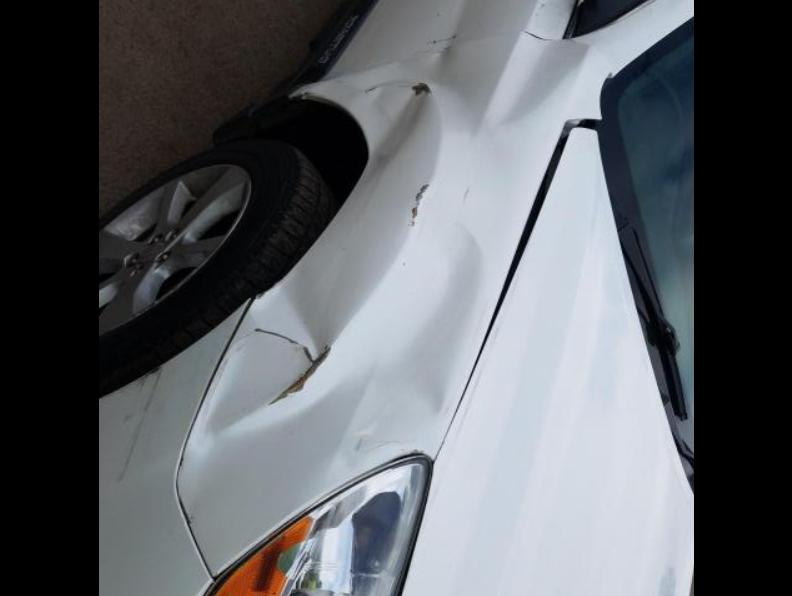Broken part: (459, 114, 599, 410), (390, 460, 432, 596)
Dent: (187, 189, 484, 454), (396, 31, 590, 127), (337, 75, 426, 174), (449, 0, 469, 28)
Paint chip: (253, 327, 331, 411), (403, 185, 428, 228), (425, 35, 457, 55), (409, 83, 430, 95)
Scratch: (121, 368, 164, 482), (458, 182, 470, 210)
